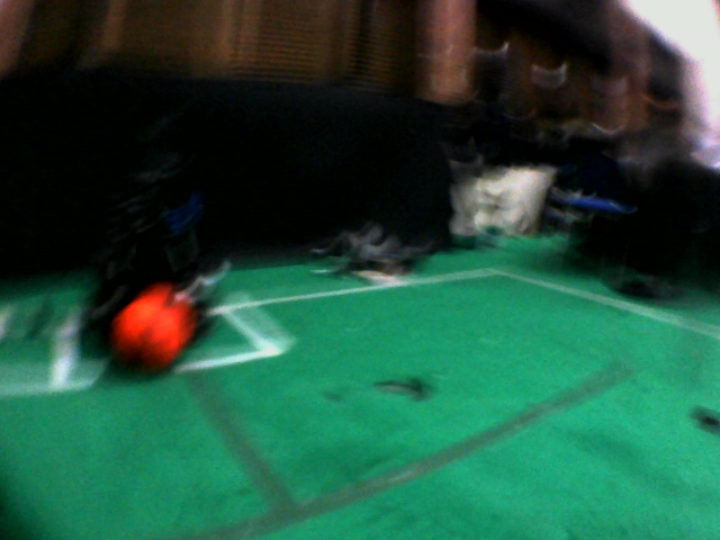bola: (103, 282, 192, 372)
